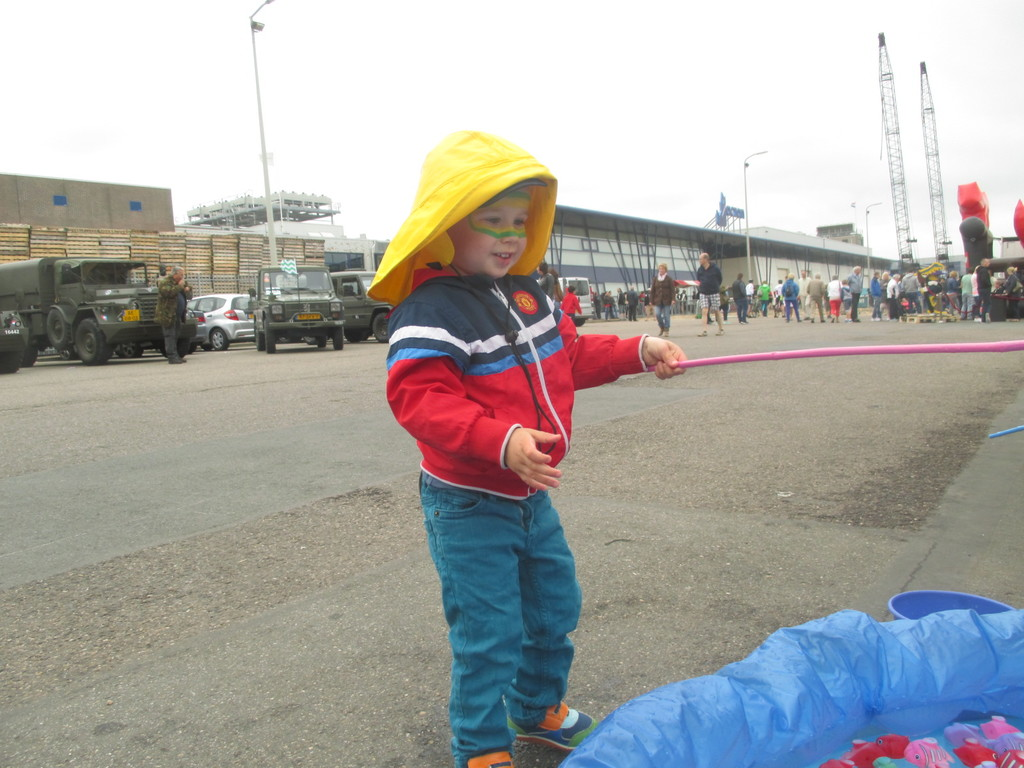Human-face: (447, 189, 534, 281)
